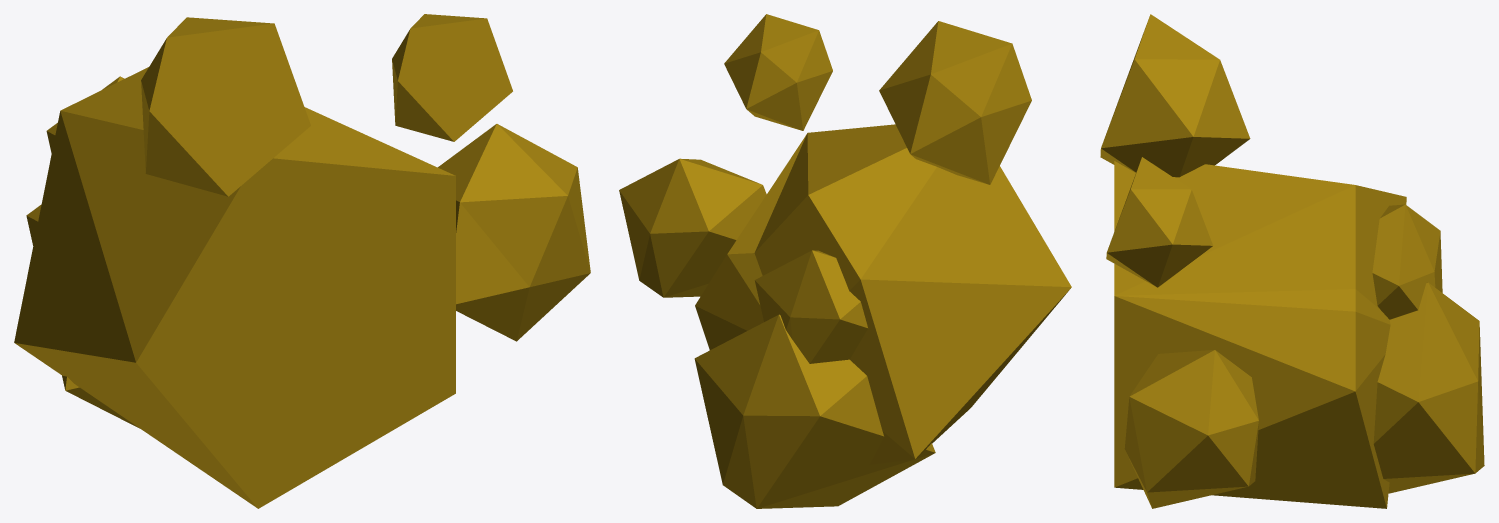
File: lowpolydesertstone.fbx
The picture shows the model from 3 angles, left to right: view 1: azimuth 30°, elevation 25°; view 2: azimuth 150°, elevation 25°; view 3: azimuth 270°, elevation 25°; orthographic projection. The views are drawn at different scales.
Parts seen in each view (by area): view 1: Icosphere; view 2: Icosphere; view 3: Icosphere.
Part boxes in pixels (x1,y1,x2,y2): Icosphere: (14, 14, 590, 508); Icosphere: (619, 14, 1071, 508); Icosphere: (1100, 14, 1484, 508).
Bounding box in the file's own units: 10.82 × 10.58 × 8.25.
